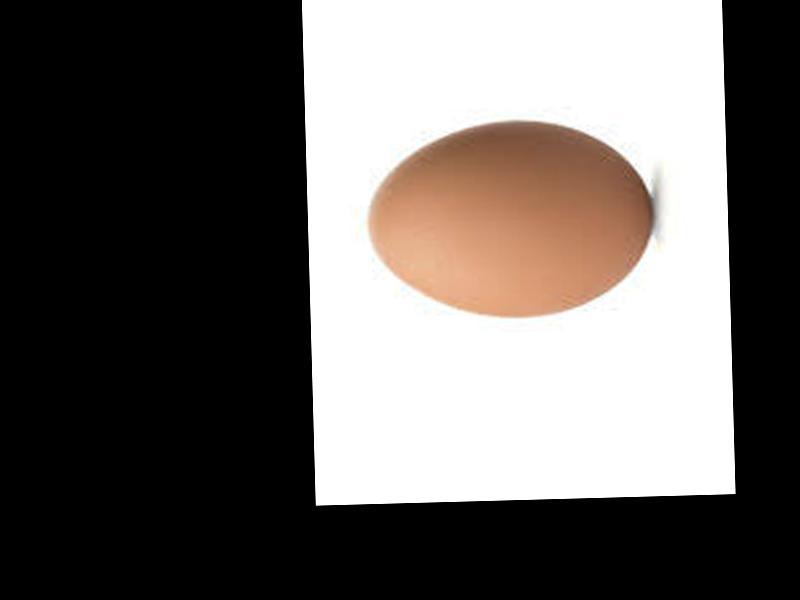Eggs: (368, 117, 657, 319)
